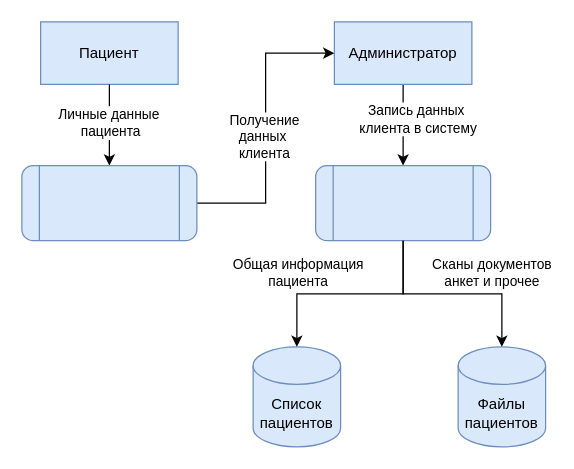
Image size: 574x469. Some labels were removed from this diagram. The centre of each missing label's shape, as x and y in pixels:
"Заполнение регистрационных данных" belongs at pixel 109 202.
"Регистрация пациента" belongs at pixel 402 202.
